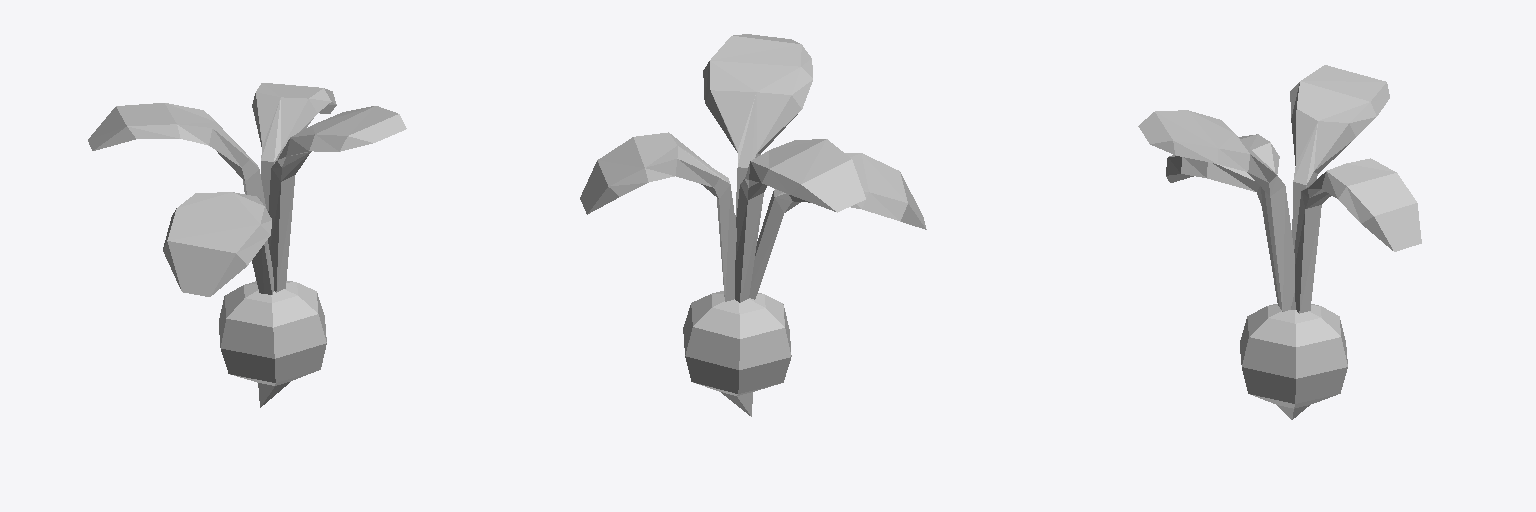
The model's file is SM_Prop_Beetroot_01_L.obj.
The picture shows the model from 3 angles: view 1: azimuth 30°, elevation 25°; view 2: azimuth 150°, elevation 25°; view 3: azimuth 270°, elevation 25°; orthographic projection.
Bounding box in the file's own units: 42.39 × 49.28 × 39.79.